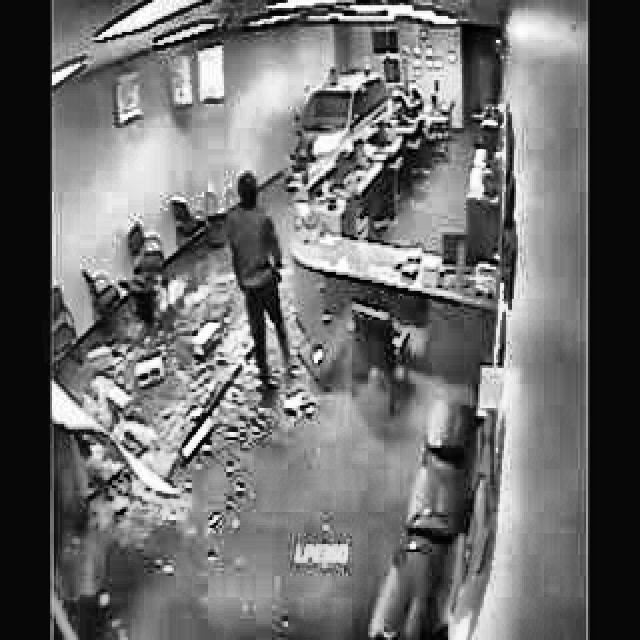burglary: (221, 162, 301, 404), (281, 54, 397, 182)
